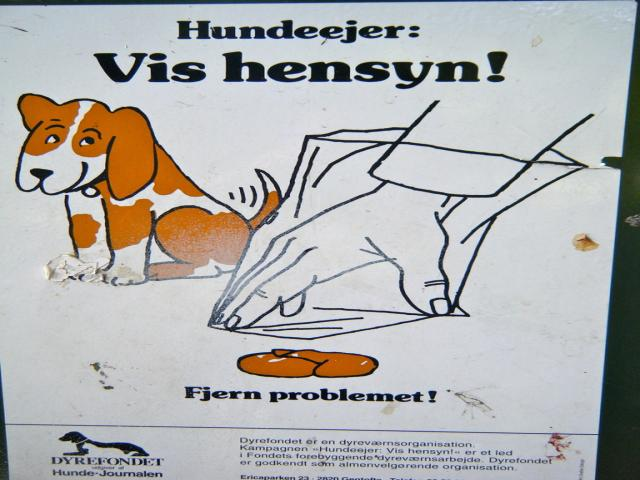Dog: (10, 92, 282, 283), (59, 432, 150, 458)
